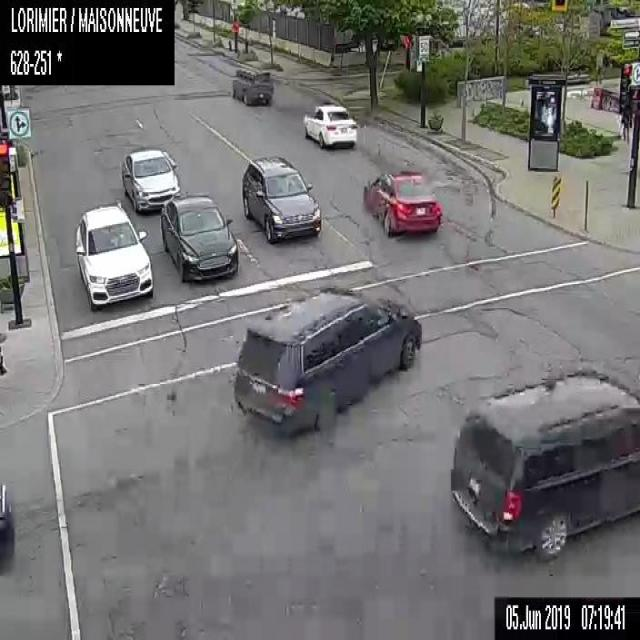vehicle: (450, 368, 639, 559), (229, 287, 421, 433), (74, 201, 152, 310), (240, 156, 322, 243), (161, 194, 238, 282), (362, 165, 441, 239), (121, 148, 180, 212), (302, 102, 357, 150), (232, 64, 271, 103), (0, 483, 15, 573)
